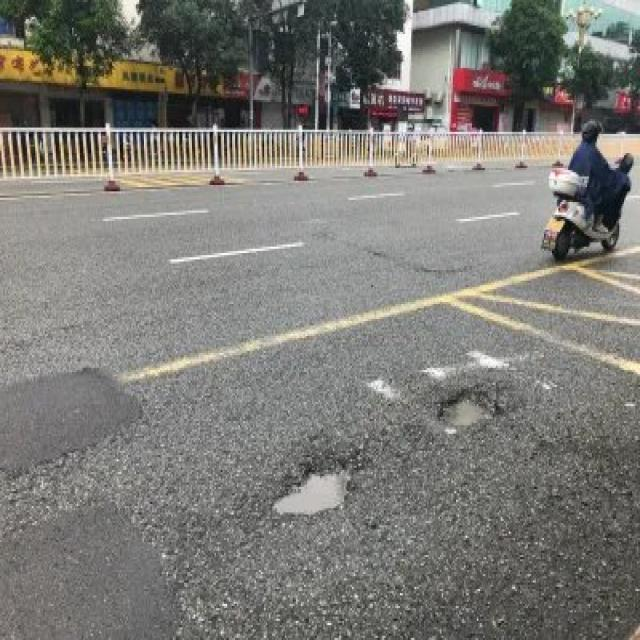Pothole: (264, 462, 349, 512), (429, 385, 496, 429)
